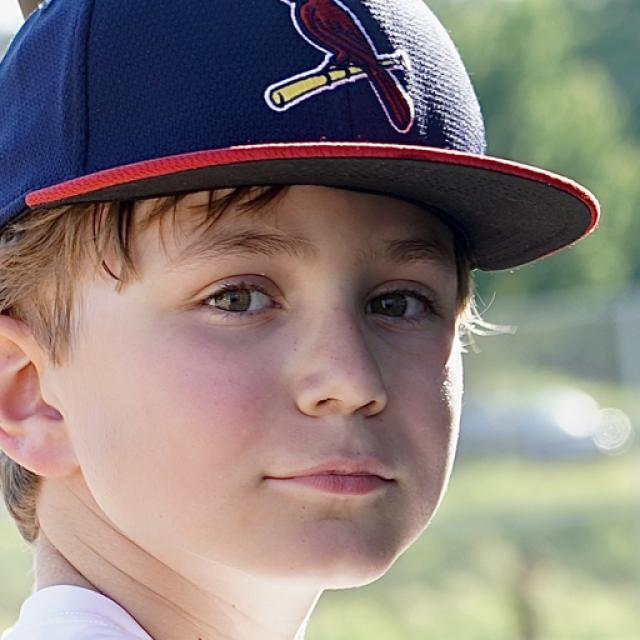neutral: (82, 186, 465, 592)
